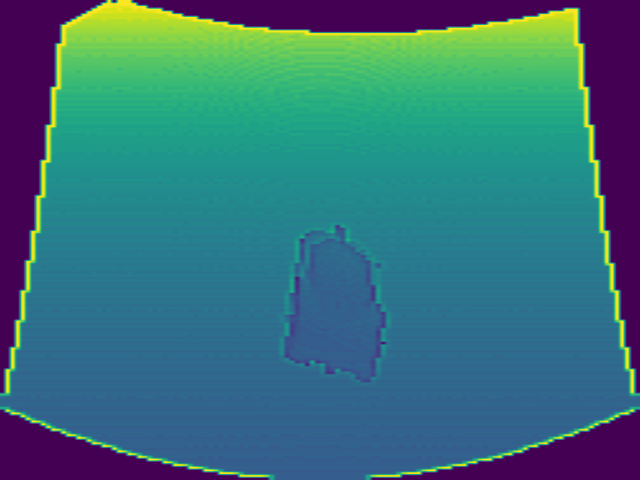car_0027: (277, 225, 387, 387)
